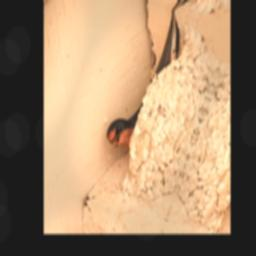Swallow: (102, 1, 197, 162)
